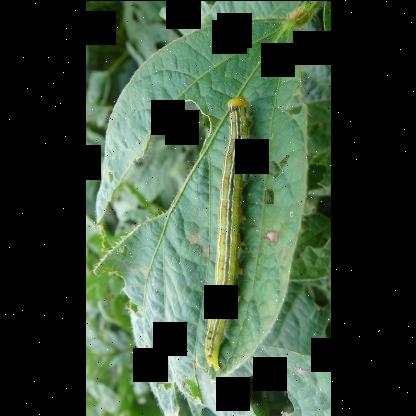agujero: (92, 89, 224, 267)
oruga: (198, 89, 252, 374)
